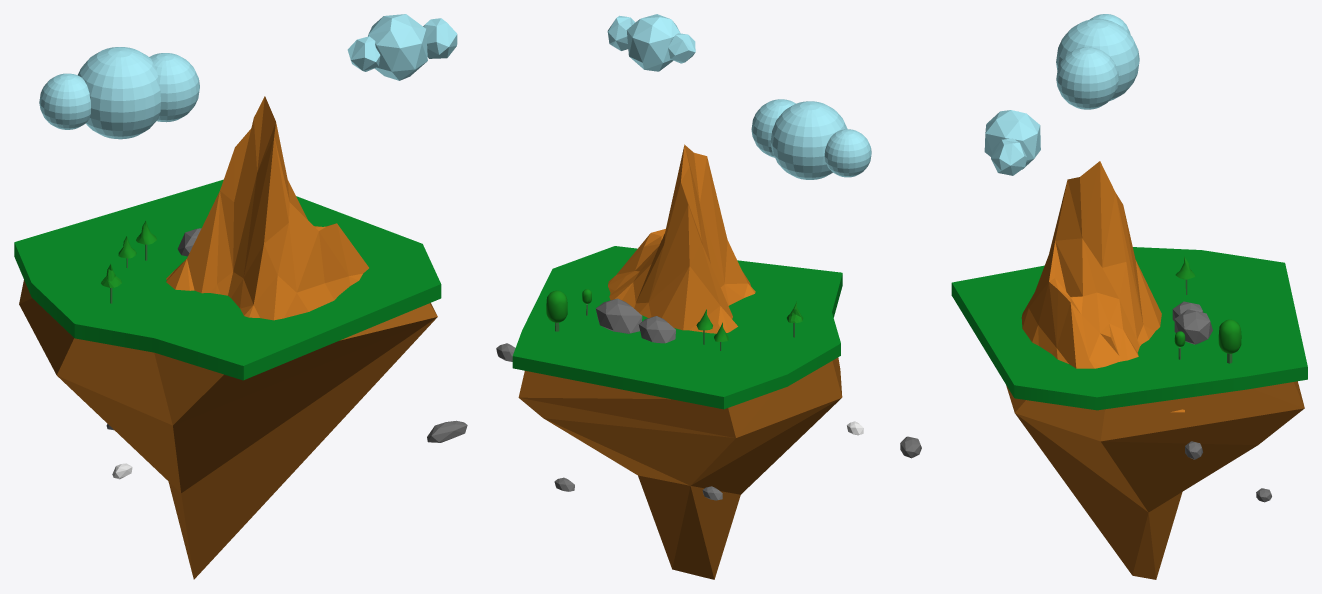
File: island.fbx
The picture shows the model from 3 angles, left to right: view 1: azimuth 30°, elevation 25°; view 2: azimuth 150°, elevation 25°; view 3: azimuth 270°, elevation 25°; orthographic projection. The views are drawn at different scales.
Visible parts, largest first — view 1: 球体_3_3, 立方体, 地形, 球体_2_3, 球体_3_2, 球体_2_2, 球体_1_2, 球体_5_2, 球体_4_2, 球体_5; view 2: 立方体, 球体_3_3, 地形, 球体_2_3, 球体_3_2, 球体_1_2, 球体, 球体_2_2, 球体_6, 球体_4_2, 球体_5_2, 胶囊; view 3: 立方体, 球体_3_3, 地形, 球体_2_2, 球体_2_3, 球体_3_2, 球体_5_2, 球体, 胶囊.
Boxes of the visible parts, x1,y1,x2,y2 form: 球体_3_3: (19, 280, 437, 579); 立方体: (14, 179, 441, 380); 地形: (166, 96, 368, 320); 球体_2_3: (78, 47, 160, 139); 球体_3_2: (368, 14, 427, 80); 球体_2_2: (149, 53, 199, 122); 球体_1_2: (39, 73, 90, 129); 球体_5_2: (423, 18, 457, 58); 球体_4_2: (347, 36, 380, 71); 球体_5: (427, 420, 467, 442); 立方体: (512, 246, 842, 409); 球体_3_3: (518, 357, 842, 579); 地形: (608, 144, 755, 333); 球体_2_3: (770, 101, 847, 179); 球体_3_2: (626, 14, 680, 71); 球体_1_2: (824, 129, 871, 177); 球体: (595, 298, 642, 333); 球体_2_2: (751, 99, 795, 157); 球体_6: (638, 316, 675, 343); 球体_4_2: (668, 33, 695, 63); 球体_5_2: (607, 15, 635, 50); 胶囊: (546, 290, 567, 322); 立方体: (951, 247, 1307, 410); 球体_3_3: (1006, 381, 1304, 579); 地形: (1021, 161, 1184, 412); 球体_2_2: (1056, 47, 1118, 109); 球体_2_3: (1056, 19, 1139, 101); 球体_3_2: (984, 110, 1040, 169); 球体_5_2: (991, 138, 1026, 175); 球体: (1174, 309, 1212, 344); 胶囊: (1218, 319, 1241, 353).
Bounding box in the file's own units: 263 × 376 × 266.
